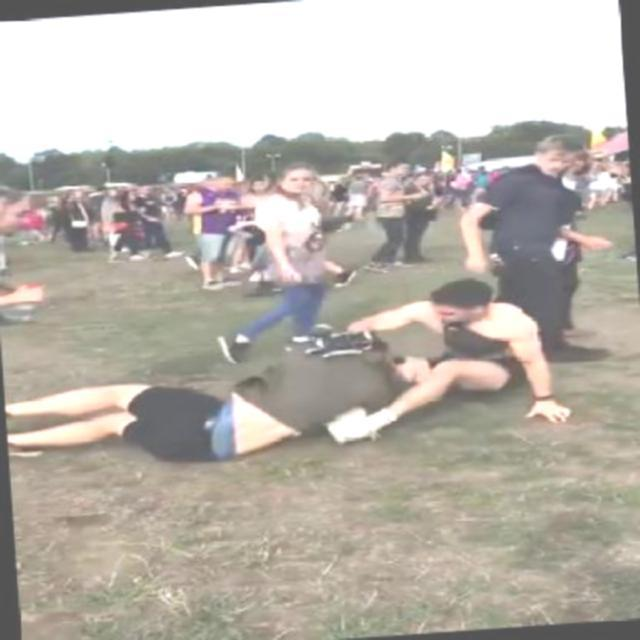fight: (0, 270, 566, 482)
